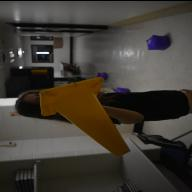cone: (39, 76, 131, 156)
cube: (146, 34, 170, 50), (97, 71, 108, 79), (116, 86, 130, 92)
